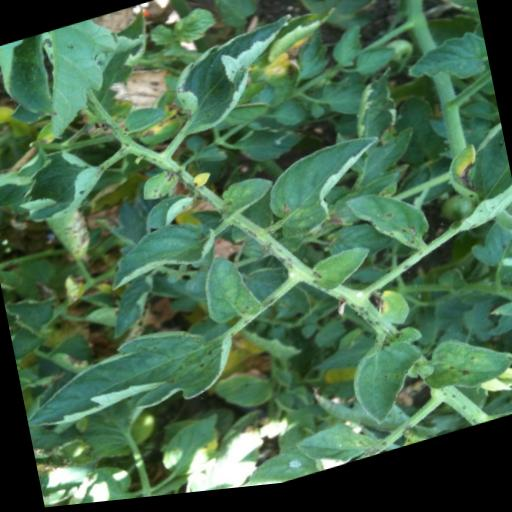Bacterial Spot: (134, 2, 320, 169), (26, 311, 240, 456), (258, 132, 386, 253), (336, 316, 430, 441), (343, 178, 444, 280), (180, 237, 271, 349), (407, 327, 512, 422), (128, 158, 188, 212)
